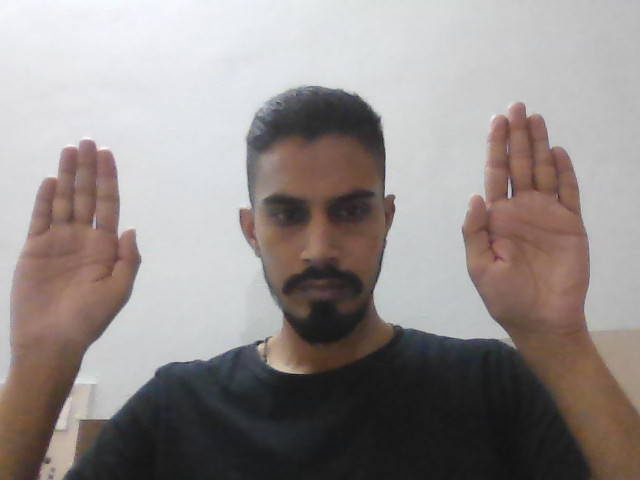Stop: (460, 86, 606, 327), (5, 129, 155, 361)
